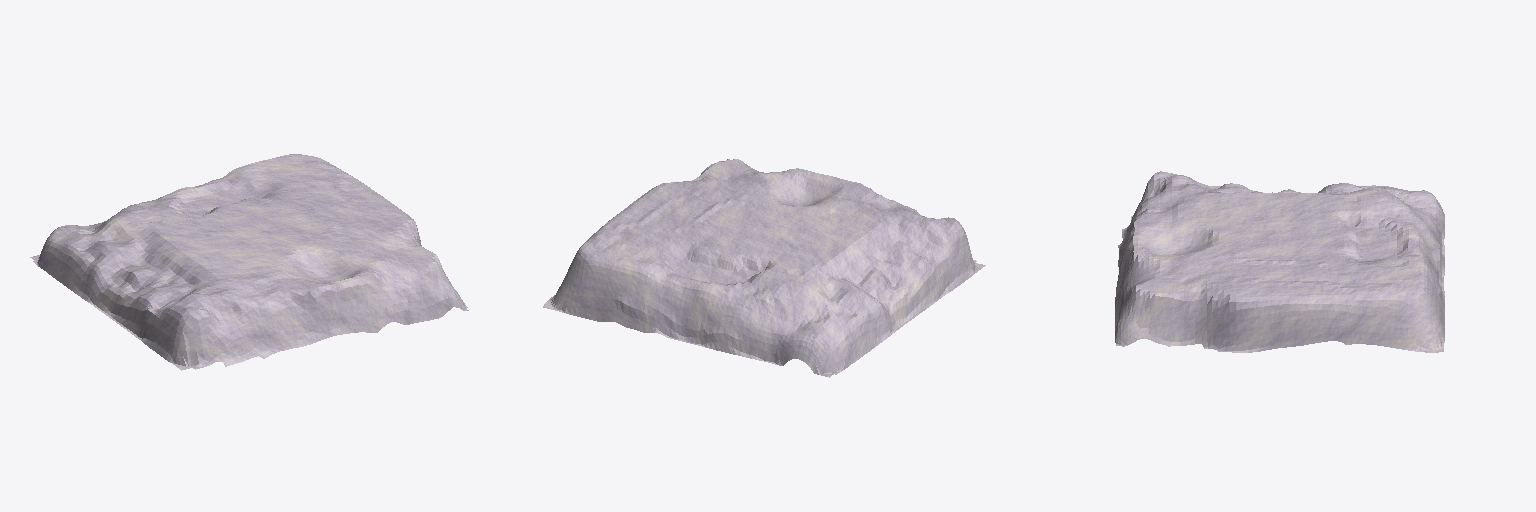
3 views of the same model, side by side, from view 1: azimuth 30°, elevation 25°; view 2: azimuth 150°, elevation 25°; view 3: azimuth 270°, elevation 25° (orthographic).
Parts seen in each view (by area): view 1: snow2:snow; view 2: snow2:snow; view 3: snow2:snow.
Boxes of the visible parts, x1=… form: snow2:snow: x1=30, y1=154, x2=468, y2=370; snow2:snow: x1=543, y1=159, x2=985, y2=377; snow2:snow: x1=1115, y1=171, x2=1444, y2=352.
Bounding box in the file's own units: 60.82 × 10.55 × 59.2.
1 materials, 1 textured.